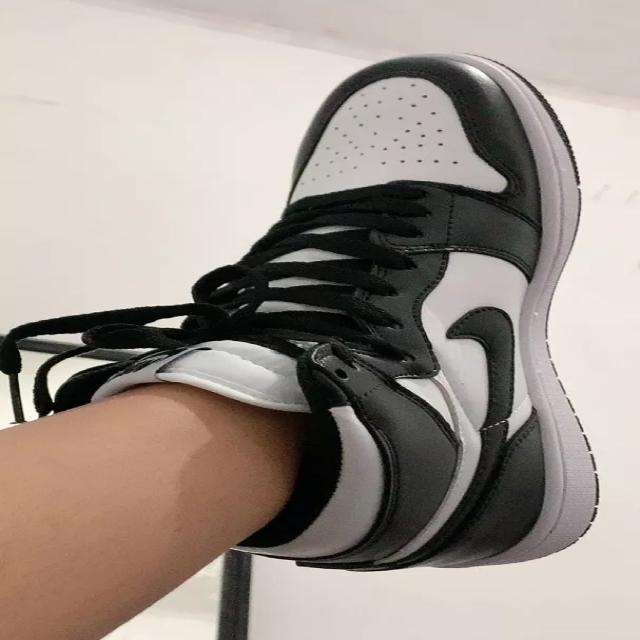nike fake jordan 1: (29, 50, 640, 572)
